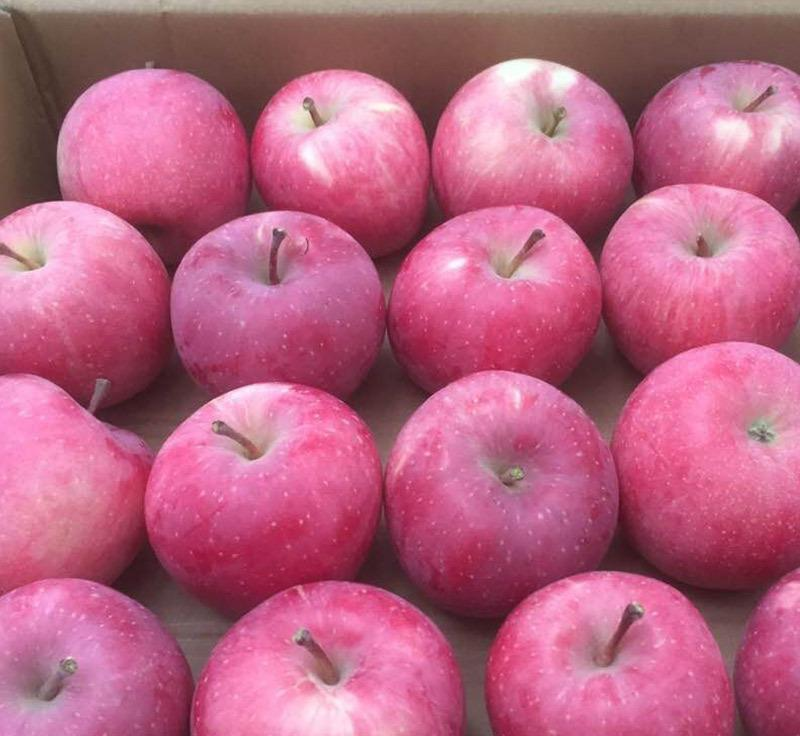apple: (381, 374, 611, 625), (145, 382, 380, 620), (609, 339, 798, 594), (191, 578, 465, 730), (168, 209, 387, 398), (386, 204, 601, 393), (481, 570, 734, 730), (599, 183, 800, 372), (50, 66, 253, 249), (1, 200, 176, 409), (432, 57, 635, 235), (1, 376, 154, 594), (251, 64, 430, 248), (1, 580, 198, 734), (635, 54, 798, 211), (729, 573, 800, 735)
